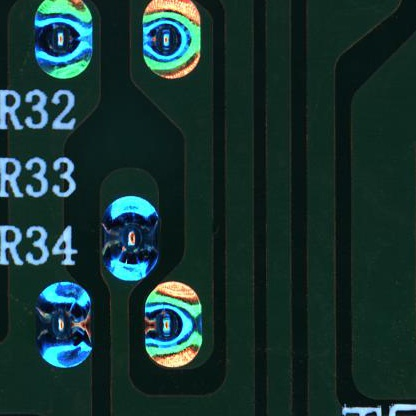spot: (143, 280, 228, 381), (88, 191, 163, 285), (33, 275, 95, 379)
